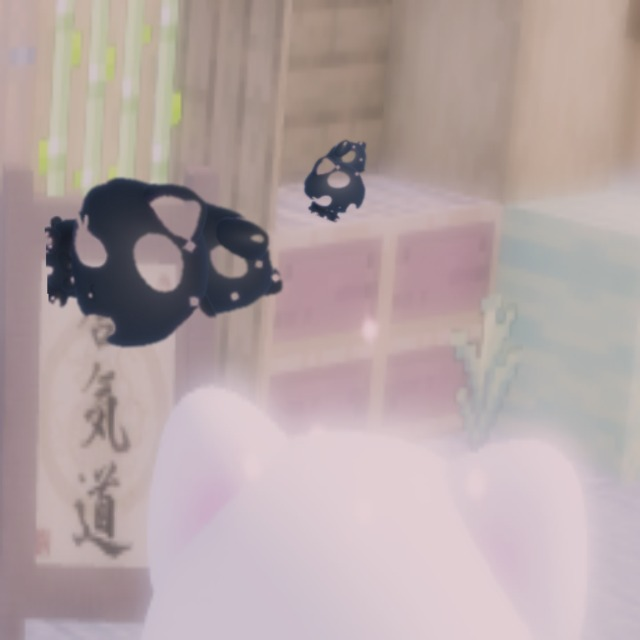urso_preto: (41, 161, 303, 369), (292, 121, 391, 231)
